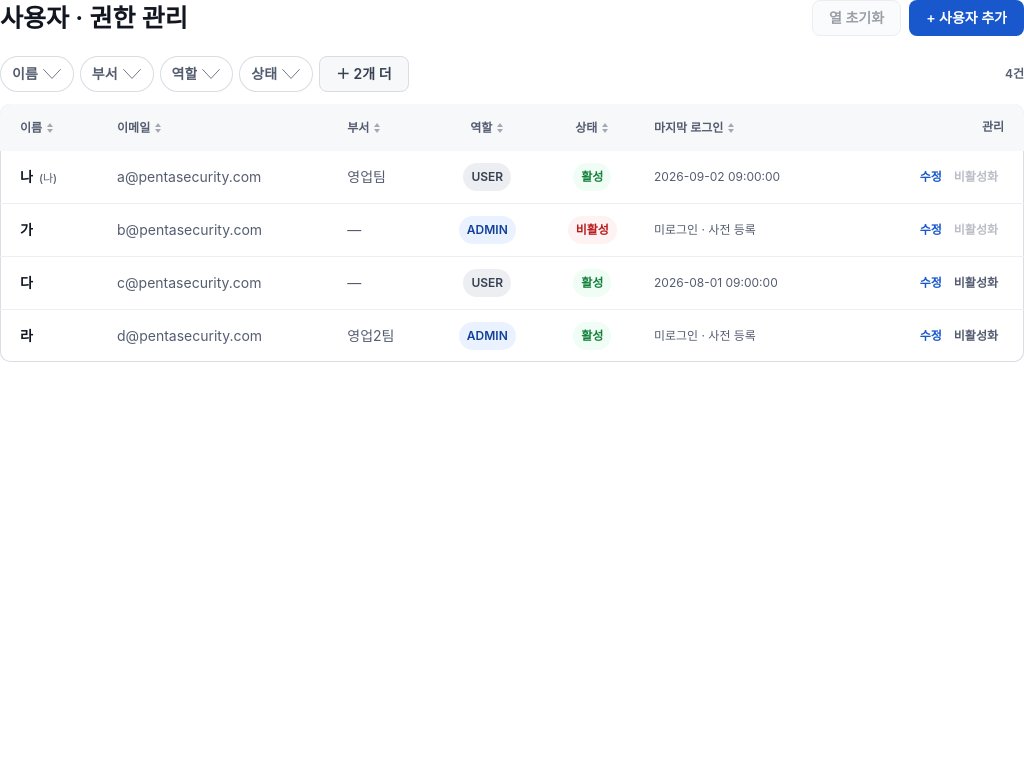
Test: UsersTable 열 필터 (파일럿) › 역할 ADMIN + 부서 "영업" 포함 → 1건, URL f.*·건수·필드 버튼·점
The width and height of the screenshot is (1024, 768).
Click the button "역할" in the row of "4건" at (196, 74), box [160,56,233,92]
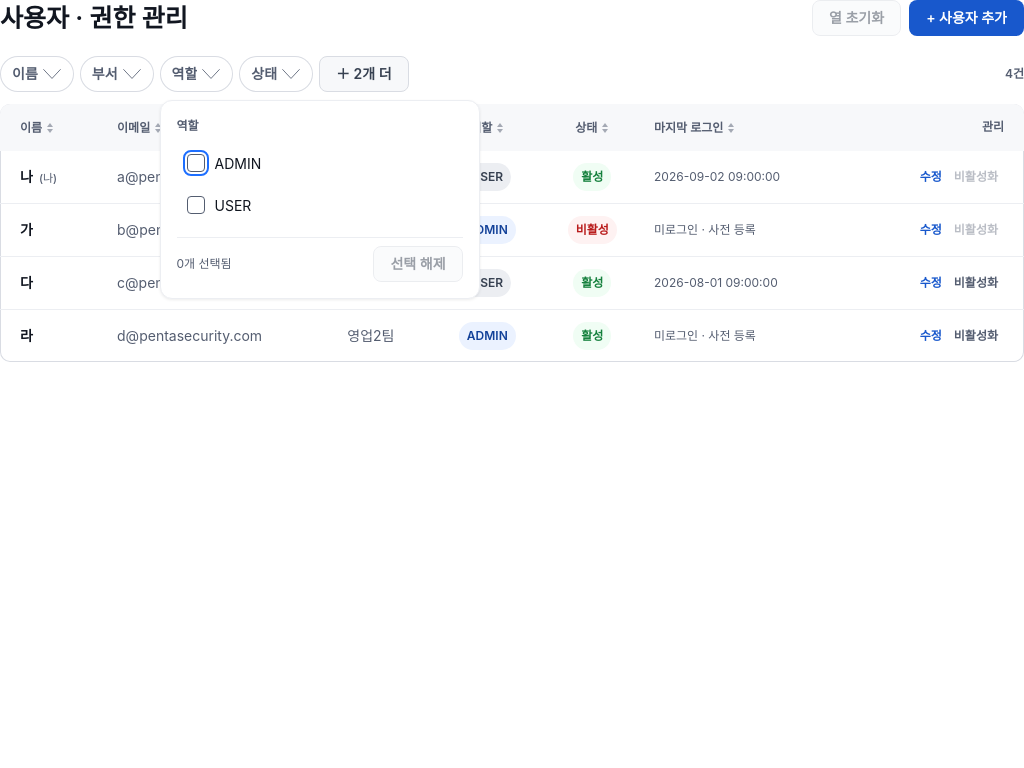
Click the checkbox labelled "ADMIN" at (196, 163), box [186,154,204,172]
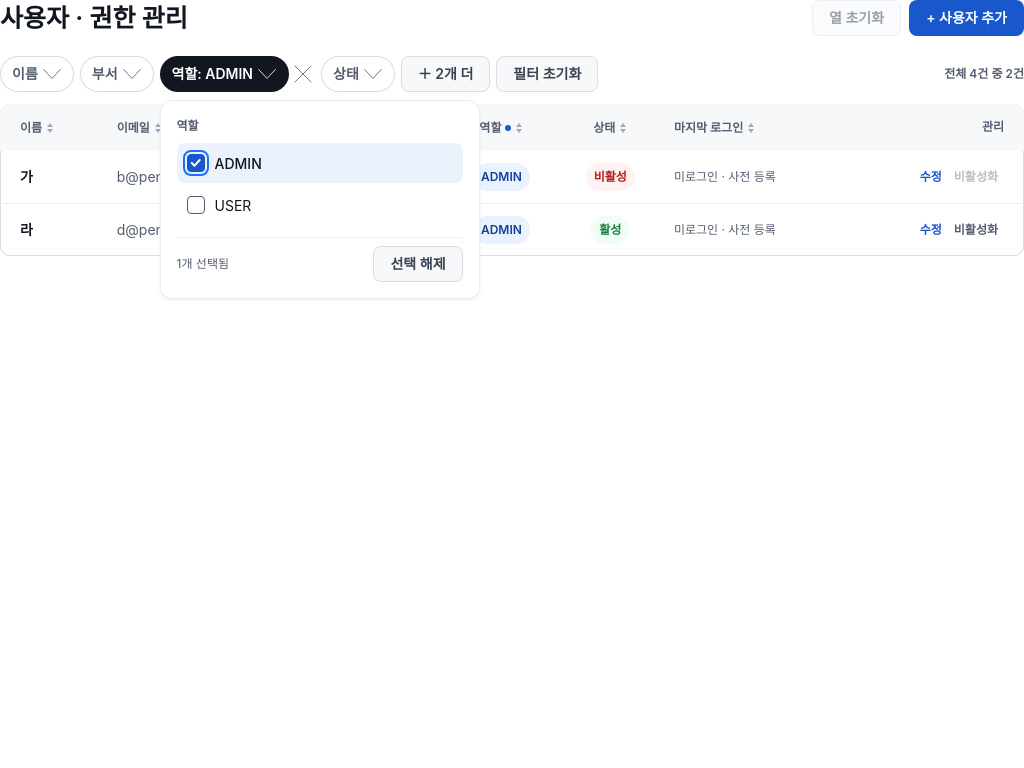
Press Escape
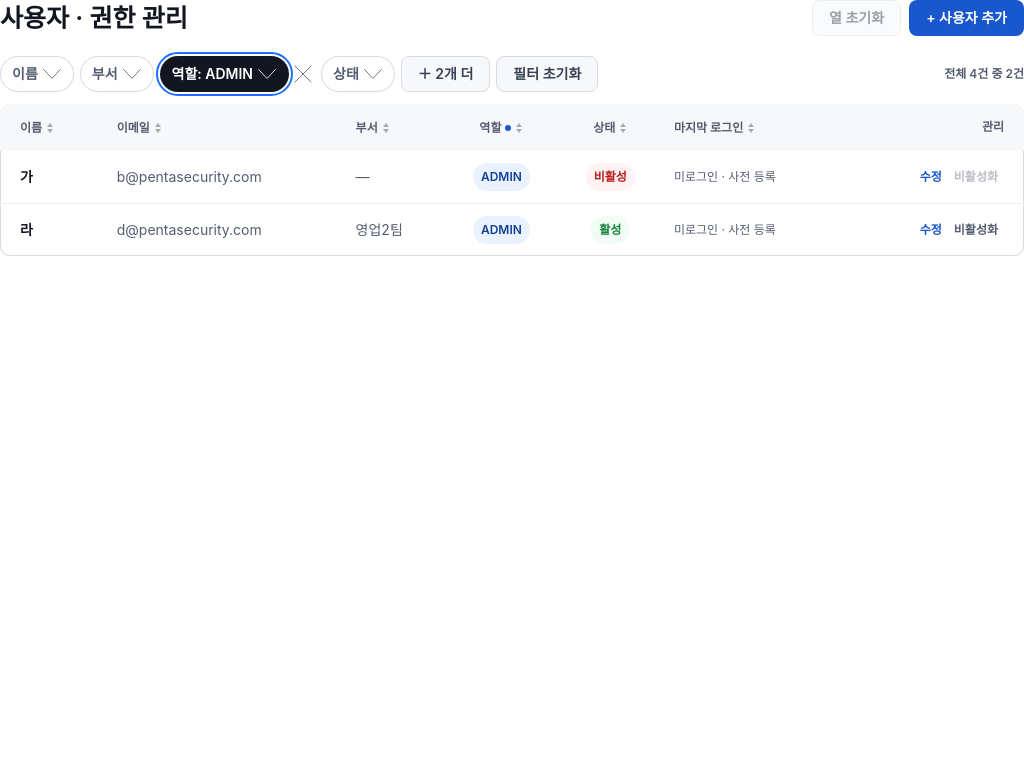
Click the button "부서" in the row of "전체 4건 중 2건" at (117, 74), box [80,56,154,92]
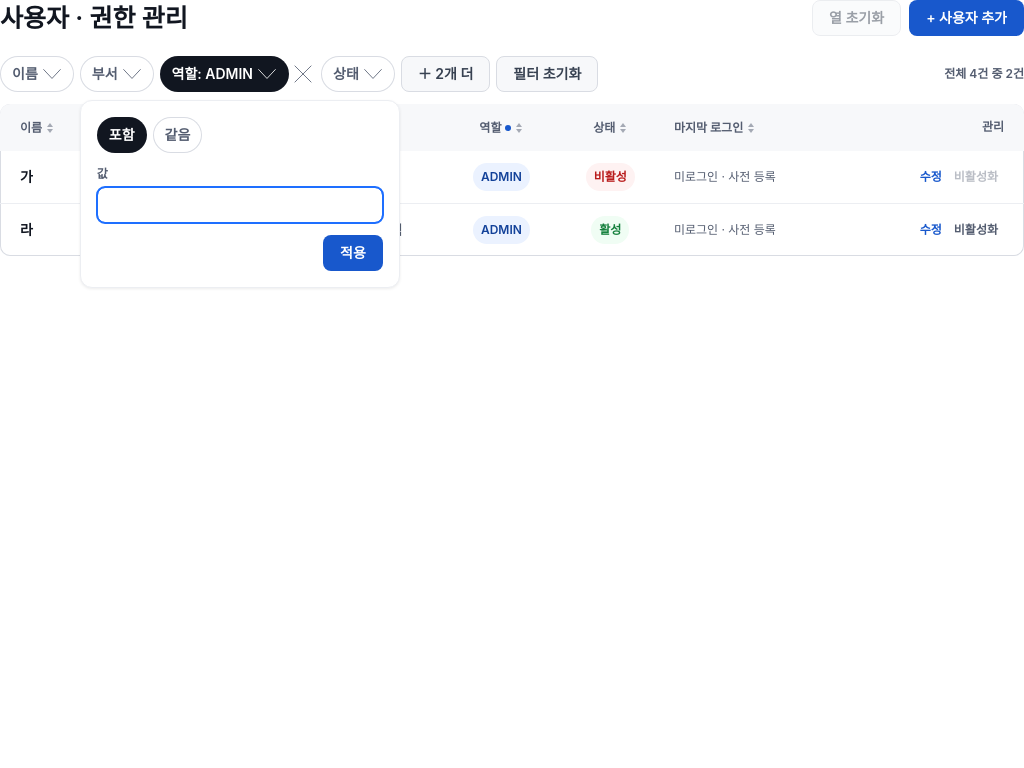
Type "영업" into the field labelled "값" at (240, 205), box [97,187,383,223]
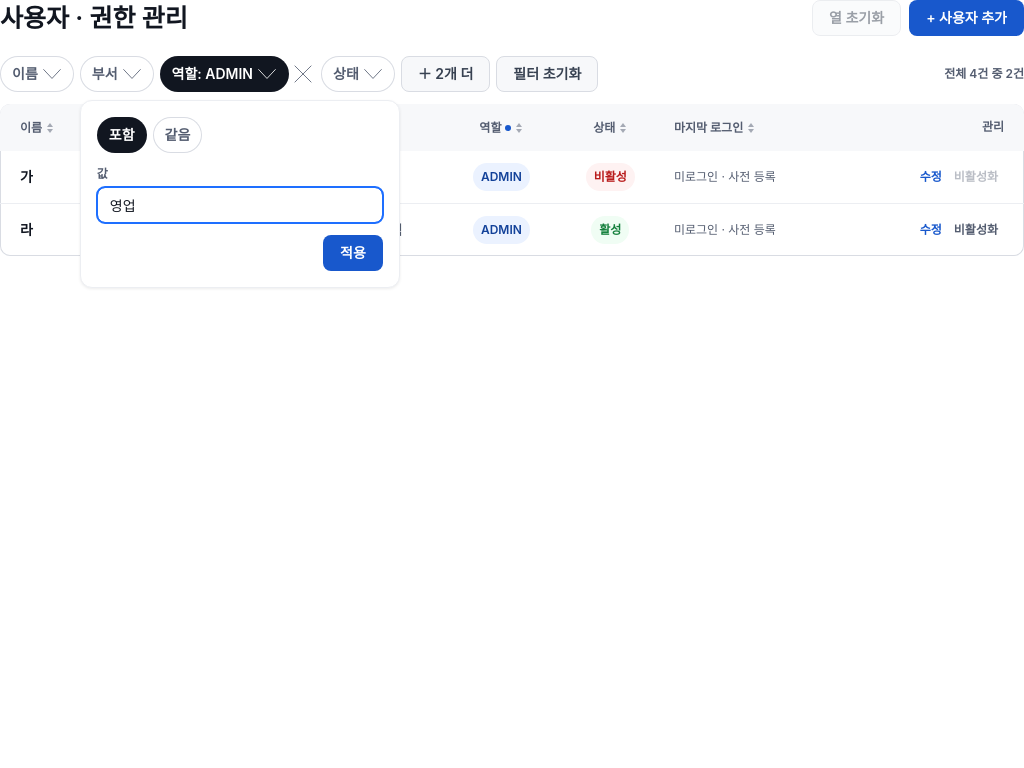
Click the button "적용" at (353, 253), box [323,235,383,271]
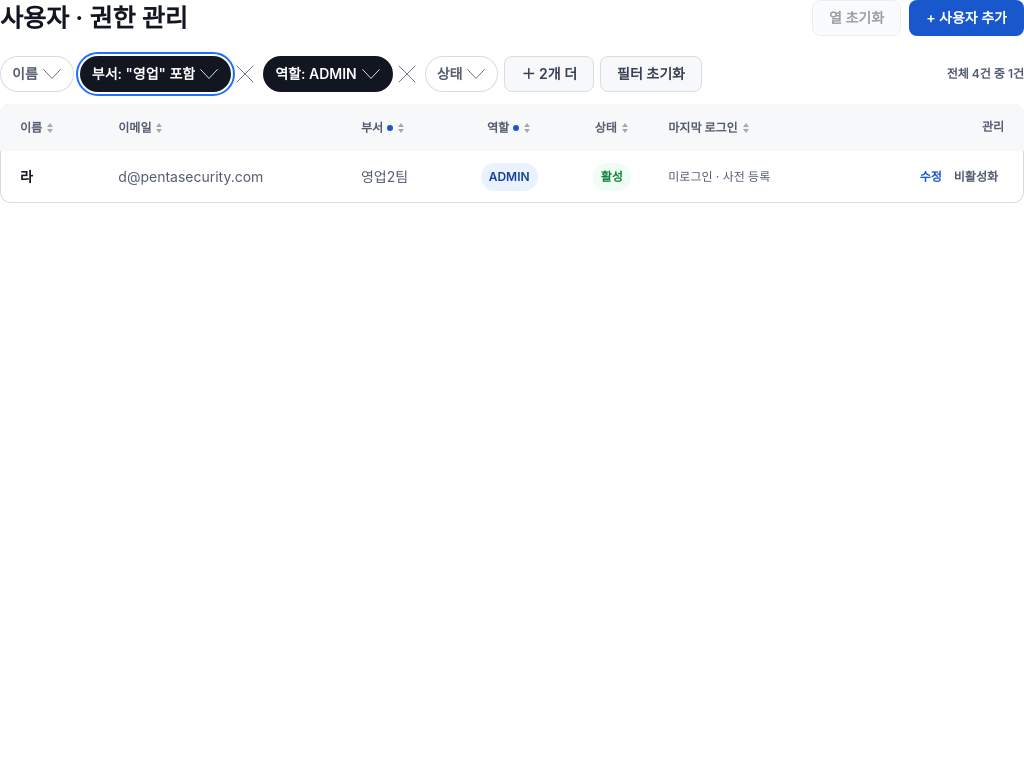
expect the text "전체 4건 중 1건" is shown: met, box [947,65,1023,83]
